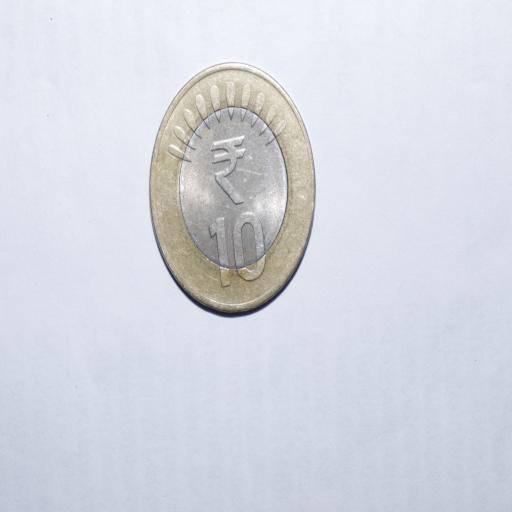rupee10: (148, 62, 315, 313)
